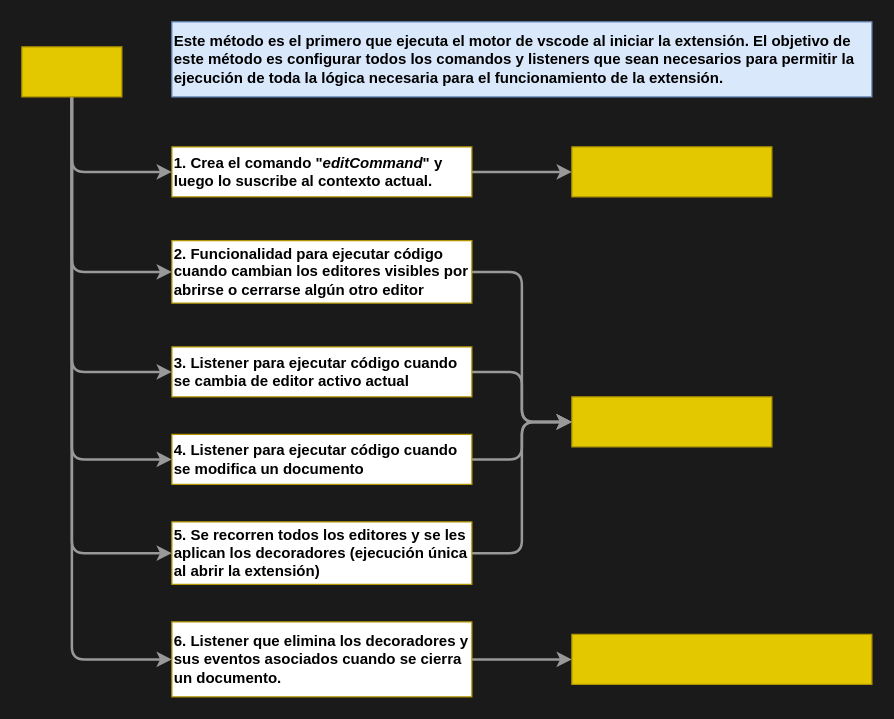
The diagram is 894 pixels wide and 719 high, and some of its shapes have lost their labels. The shapes that lost their labels are listed below. From the top down, each one's centre as x and y in pixels, then its label:
At point 71,71: "activate()".
At point 671,171: "handleEditCommand()".
At point 671,421: "handleActiveDocument()".
At point 721,658: "handleOnDidCloseTextDocument()".
